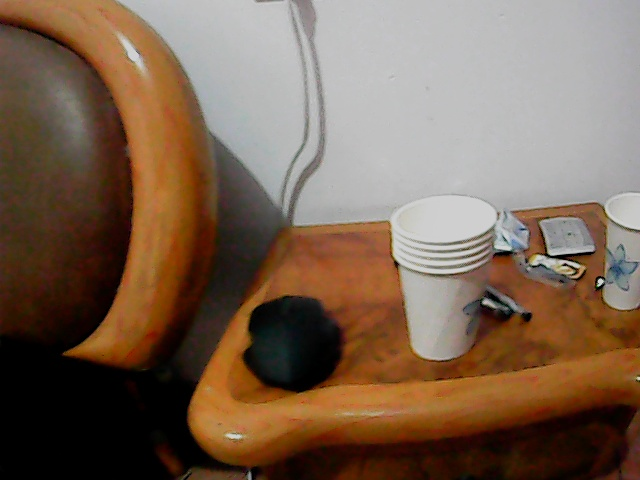cup: (393, 191, 495, 356)
mouse: (241, 291, 345, 388)
